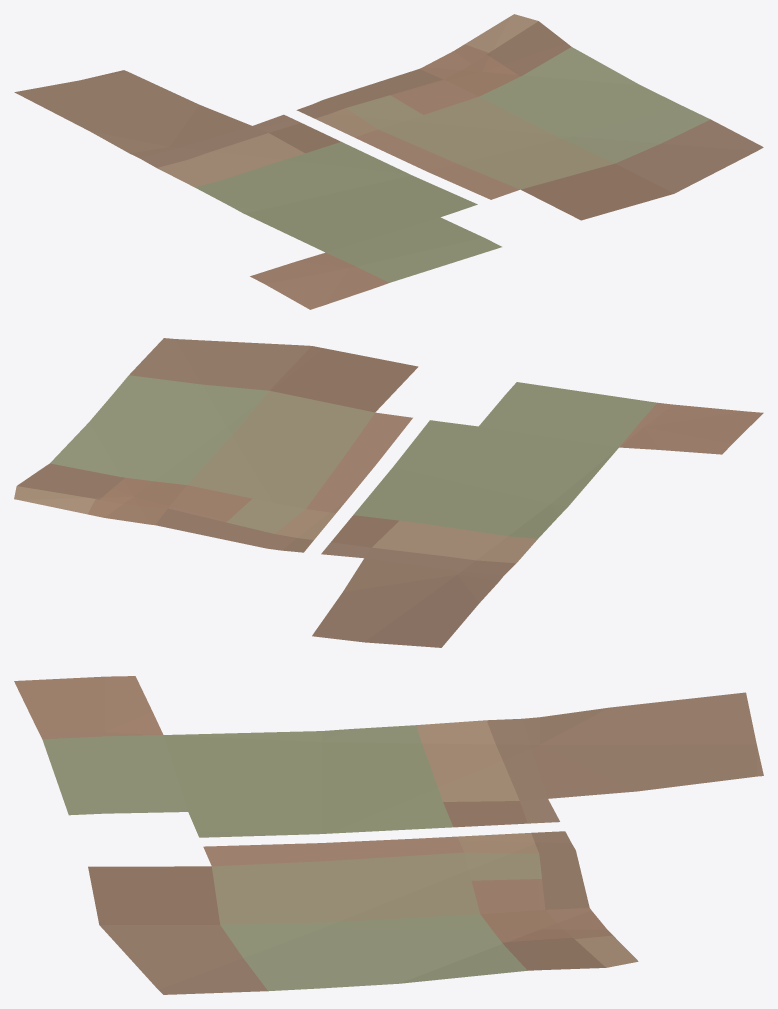
File: farm_-1_14_soil.glb
3 views of the same model, one above another, from view 1: azimuth 30°, elevation 25°; view 2: azimuth 150°, elevation 25°; view 3: azimuth 270°, elevation 25° (orthographic). The views are drawn at different scales.
Visible parts, largest first — view 1: geometry_0; view 2: geometry_0; view 3: geometry_0.
Boxes of the visible parts, x1=… form: geometry_0: x1=14, y1=14, x2=763, y2=309; geometry_0: x1=14, y1=338, x2=763, y2=647; geometry_0: x1=14, y1=676, x2=763, y2=994.
Bounding box in the file's own units: 270 × 10.01 × 276.
